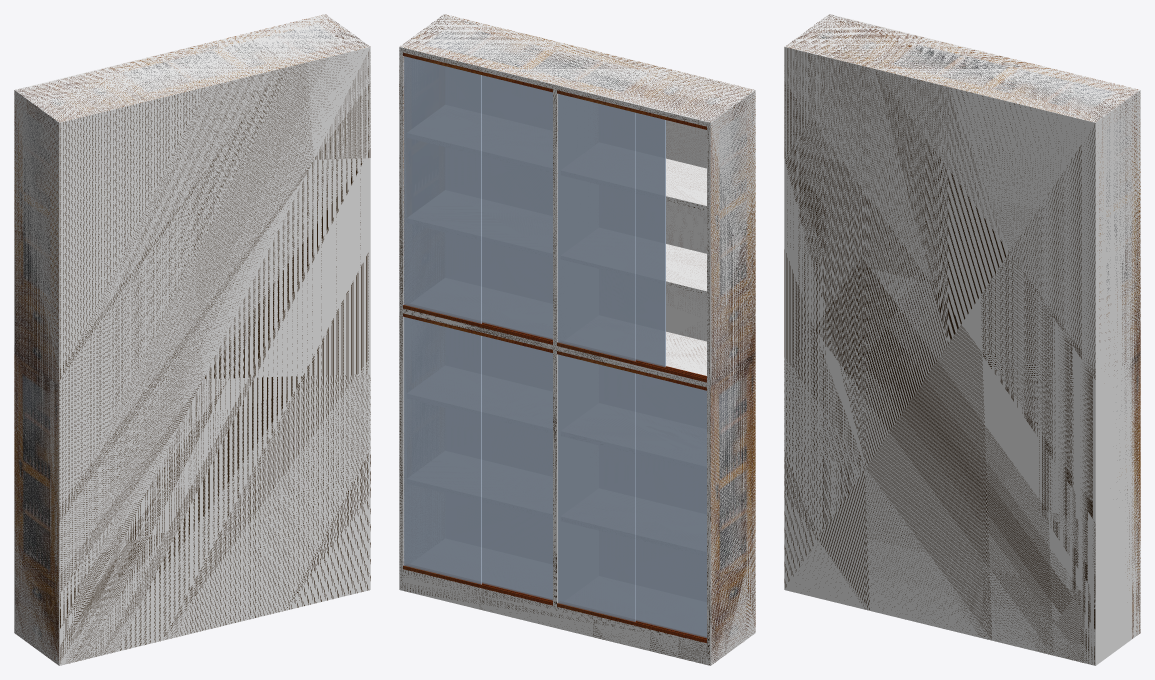
3 views of the same model, side by side, from view 1: azimuth 30°, elevation 25°; view 2: azimuth 150°, elevation 25°; view 3: azimuth 330°, elevation 25° (orthographic).
Visible parts, largest first — view 1: mesh37_mesh37-geometry; view 2: mesh37_mesh37-geometry, mesh72_mesh72-geometry, mesh16_mesh16-geometry, mesh1_mesh1-geometry, mesh11_mesh11-geometry, mesh6_mesh6-geometry, mesh67_mesh67-geometry, mesh62_mesh62-geometry, mesh77_mesh77-geometry, mesh33_mesh33-geometry, mesh29_mesh29-geometry, mesh31_mesh31-geometry (+5 smaller); view 3: mesh37_mesh37-geometry, mesh41_mesh41-geometry.
Part boxes in pixels (box(x1,y1,x2,y2)): mesh37_mesh37-geometry: box(14, 14, 370, 665); mesh37_mesh37-geometry: box(399, 14, 755, 665); mesh72_mesh72-geometry: box(557, 93, 635, 361); mesh16_mesh16-geometry: box(403, 56, 481, 323); mesh1_mesh1-geometry: box(557, 354, 635, 621); mesh11_mesh11-geometry: box(403, 317, 481, 584); mesh6_mesh6-geometry: box(635, 373, 706, 637); mesh67_mesh67-geometry: box(482, 75, 552, 339); mesh62_mesh62-geometry: box(482, 336, 552, 600); mesh77_mesh77-geometry: box(635, 113, 665, 367); mesh33_mesh33-geometry: box(557, 342, 706, 382); mesh29_mesh29-geometry: box(403, 565, 552, 605); mesh31_mesh31-geometry: box(557, 603, 706, 643); mesh37_mesh37-geometry: box(784, 14, 1140, 665); mesh41_mesh41-geometry: box(1099, 92, 1140, 638).
Bounding box in the file's own units: 0.5103 × 0.8505 × 0.1277.
